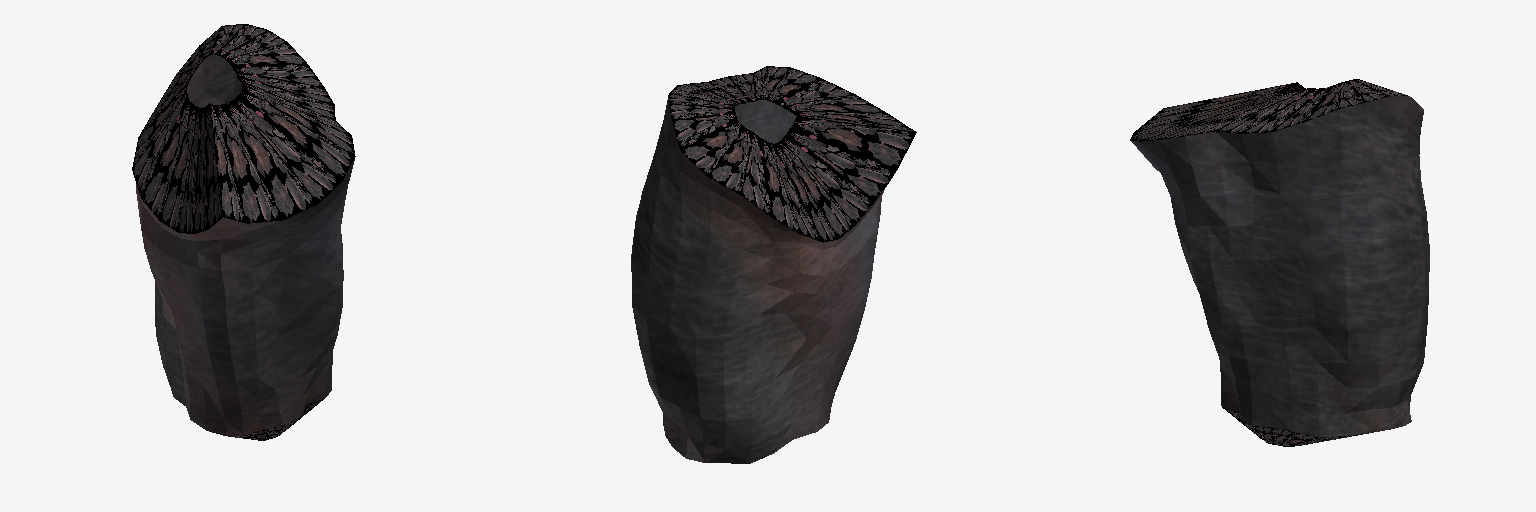
3 renders of one model, left to right at view 1: azimuth 30°, elevation 25°; view 2: azimuth 150°, elevation 25°; view 3: azimuth 270°, elevation 25°, orthographic.
Parts seen in each view (by area): view 1: Hip_R_Knee_R_Cut; view 2: Hip_R_Knee_R_Cut; view 3: Hip_R_Knee_R_Cut.
Boxes of the visible parts, <box> form: Hip_R_Knee_R_Cut: <box>132,24,355,440</box>; Hip_R_Knee_R_Cut: <box>631,66,916,463</box>; Hip_R_Knee_R_Cut: <box>1130,79,1429,446</box>.
Bounding box in the file's own units: 1.3 × 2.48 × 1.86.
1 materials, 1 textured.